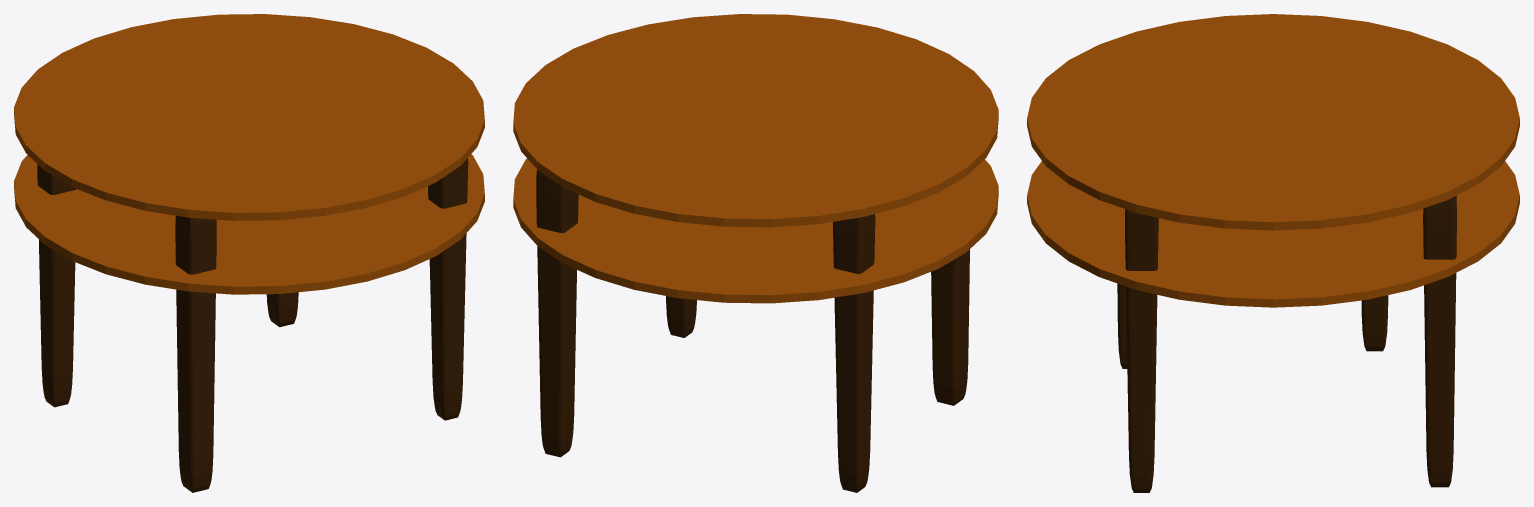
File: Little table.fbx
3 renders of one model, left to right at view 1: azimuth 30°, elevation 25°; view 2: azimuth 150°, elevation 25°; view 3: azimuth 270°, elevation 25°, orthographic. The views are drawn at different scales.
Visible parts, largest first — view 1: Little table; view 2: Little table; view 3: Little table.
Boxes of the visible parts, box(x1,y1,x2,y2) form: Little table: box(14, 14, 484, 492); Little table: box(513, 14, 998, 492); Little table: box(1027, 14, 1519, 492).
Bounding box in the file's own units: 88.73 × 61.26 × 88.73.
